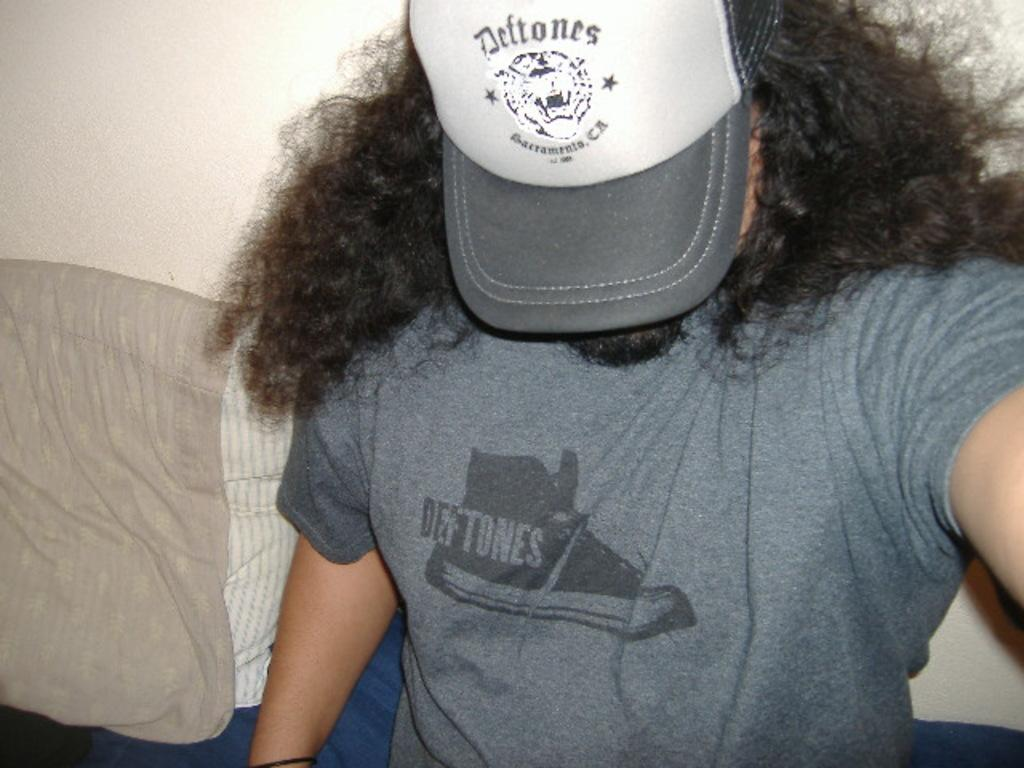Hat: (404, 0, 784, 332)
